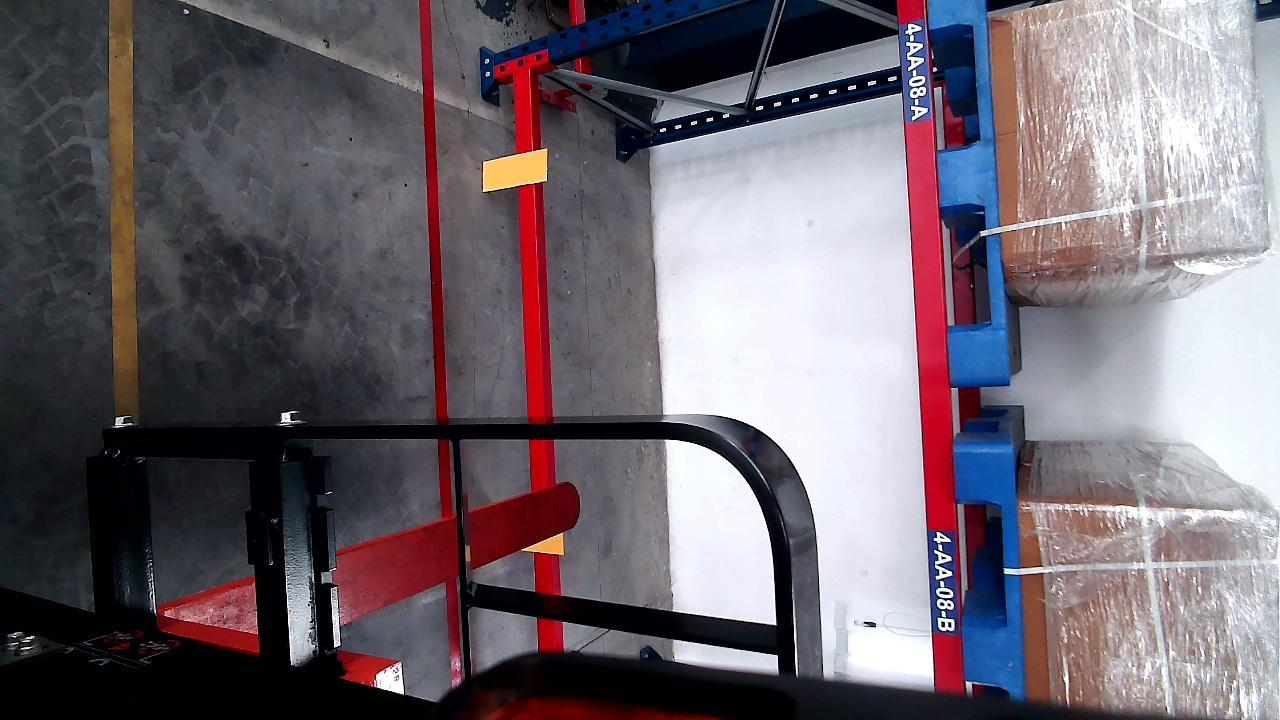red_line: (417, 4, 459, 695)
yellow_line: (109, 0, 139, 420)
